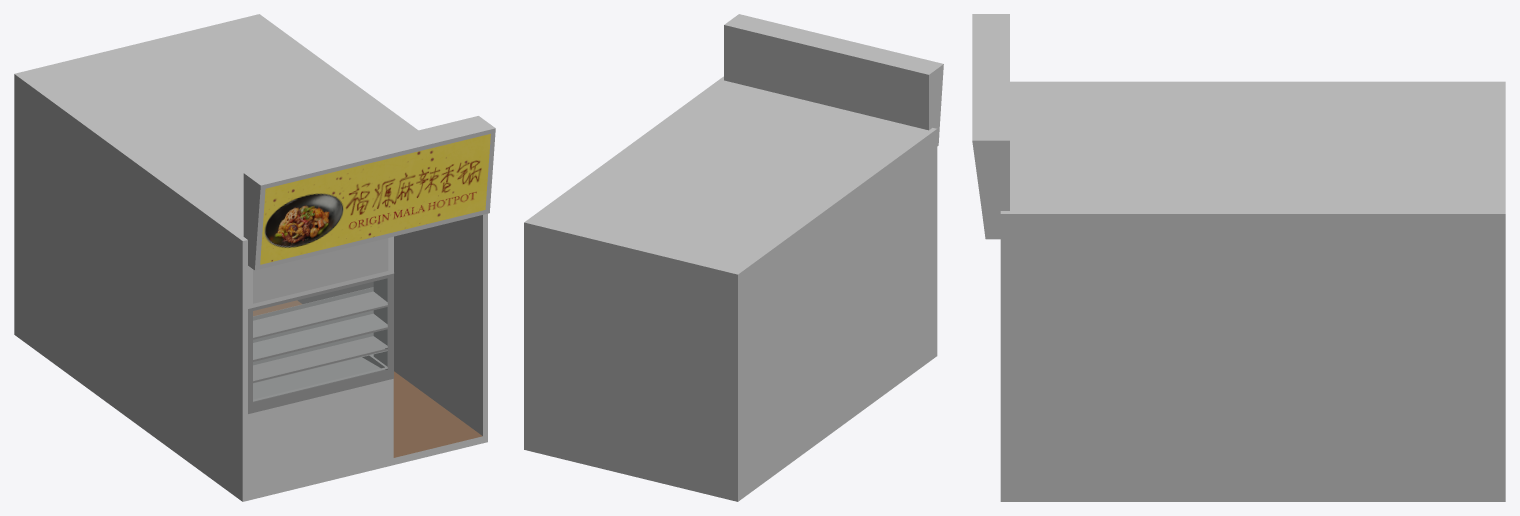
The model's file is stall4.fbx.
The picture shows the model from 3 angles, left to right: view 1: azimuth 30°, elevation 25°; view 2: azimuth 150°, elevation 25°; view 3: azimuth 270°, elevation 25°; orthographic projection. The views are drawn at different scales.
Visible parts, largest first — view 1: pCube29, pCube27; view 2: pCube29; view 3: pCube29.
Boxes of the visible parts, box(x1,y1,x2,y2) form: pCube29: box(14, 14, 495, 501); pCube27: box(248, 273, 393, 413); pCube29: box(524, 14, 943, 501); pCube29: box(972, 14, 1505, 501).
Size of the model in its own units: 3.28 by 4.14 by 5.59.
